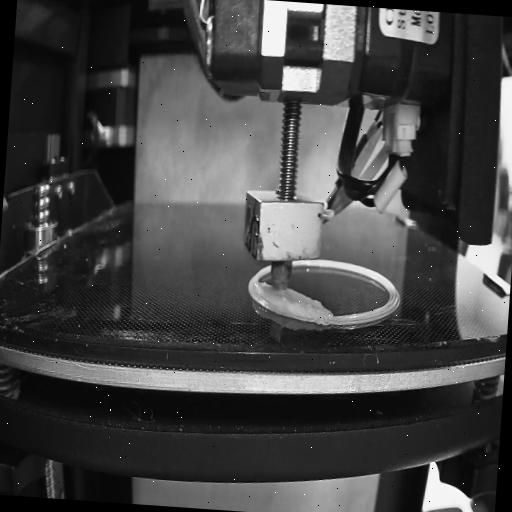over_extrusion: (251, 280, 266, 298), (308, 298, 324, 313)
